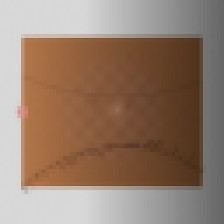pinguecula_lesion: (135, 84, 182, 122)
